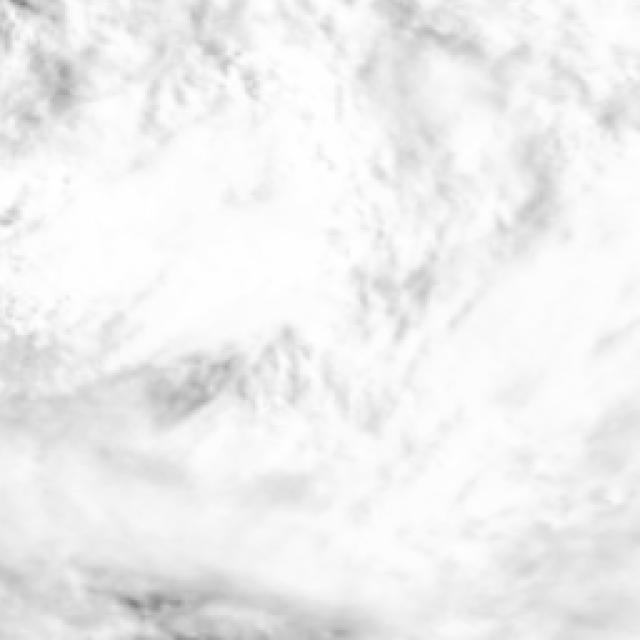CB: (46, 127, 364, 338), (452, 198, 640, 412)
